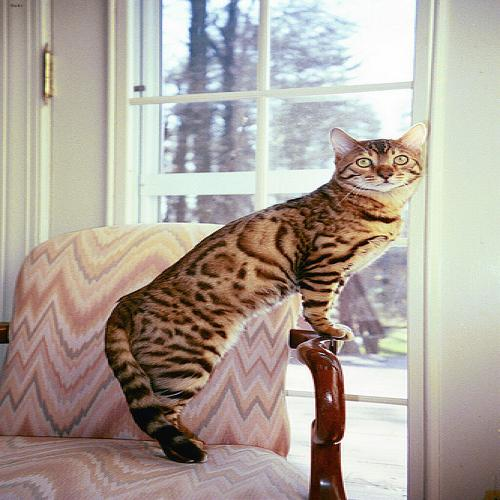bengal: (318, 119, 446, 206)
